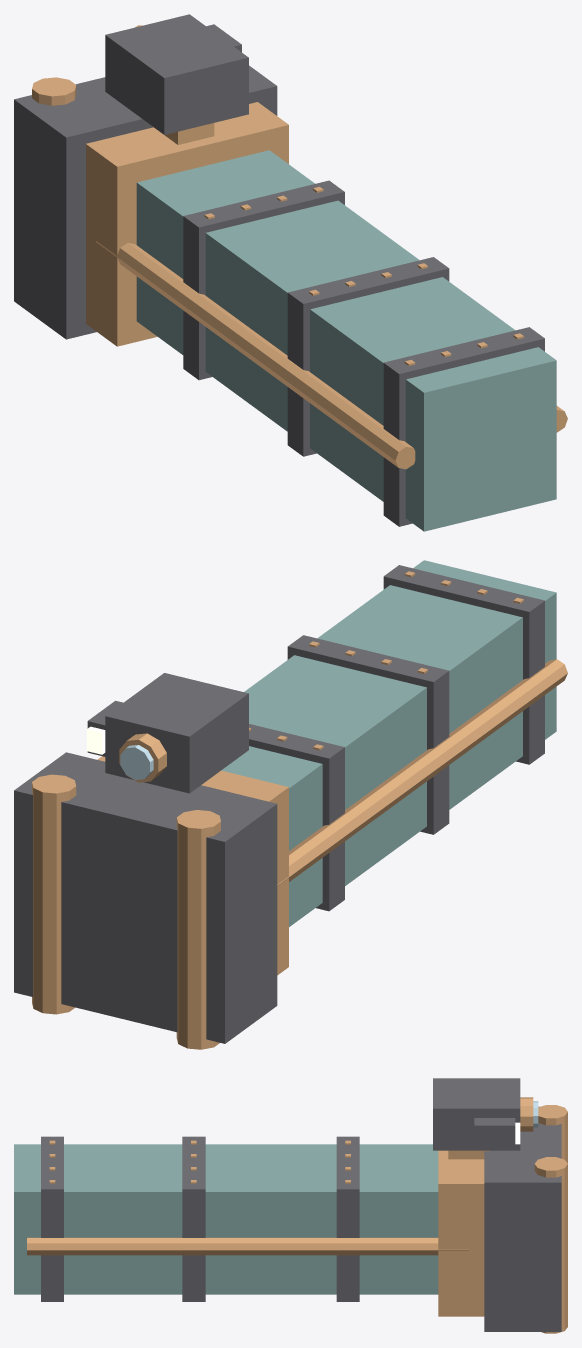
File: grabber_slider.glb
The picture shows the model from 3 angles, top to bottom: view 1: azimuth 30°, elevation 25°; view 2: azimuth 150°, elevation 25°; view 3: azimuth 270°, elevation 25°; orthographic projection. The views are drawn at different scales.
Parts seen in each view (by area): view 1: GrabberSlider; view 2: GrabberSlider; view 3: GrabberSlider.
Boxes of the visible parts, left/top/right/bottom form: GrabberSlider: left=14, top=14, right=567, bottom=531; GrabberSlider: left=14, top=560, right=567, bottom=1049; GrabberSlider: left=14, top=1078, right=567, bottom=1333.
Bounding box in the file's own units: 0.7 × 0.89 × 2.15.
